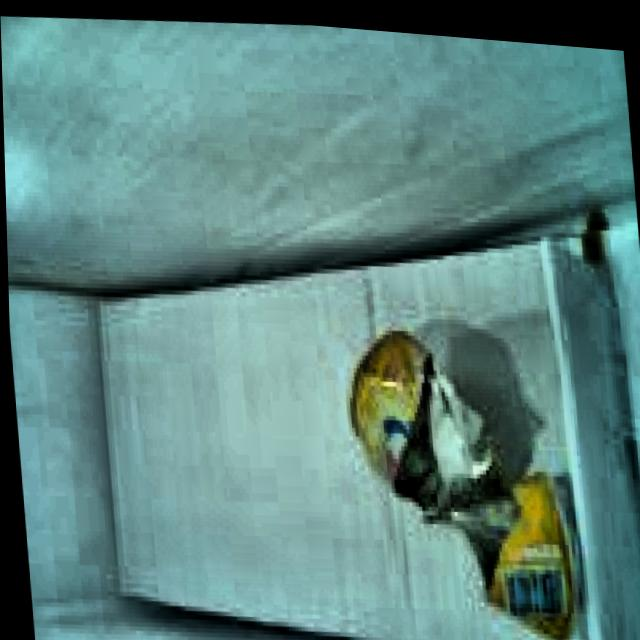Cans: (332, 296, 586, 640)
